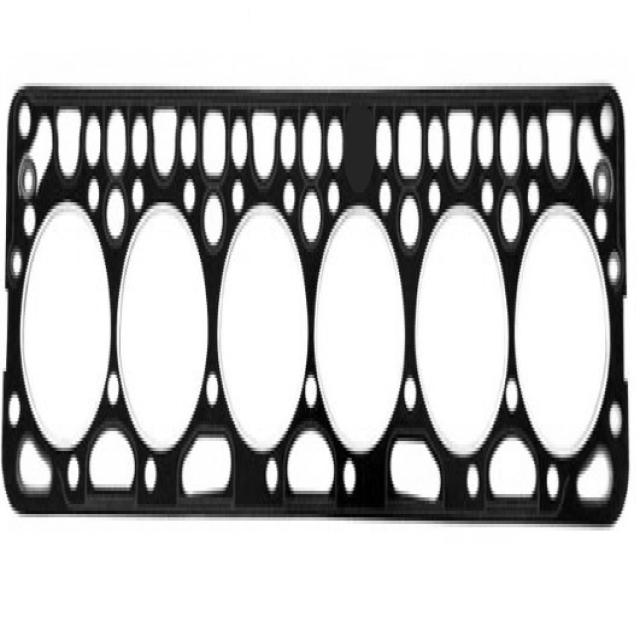missing hole: (337, 110, 397, 180)
